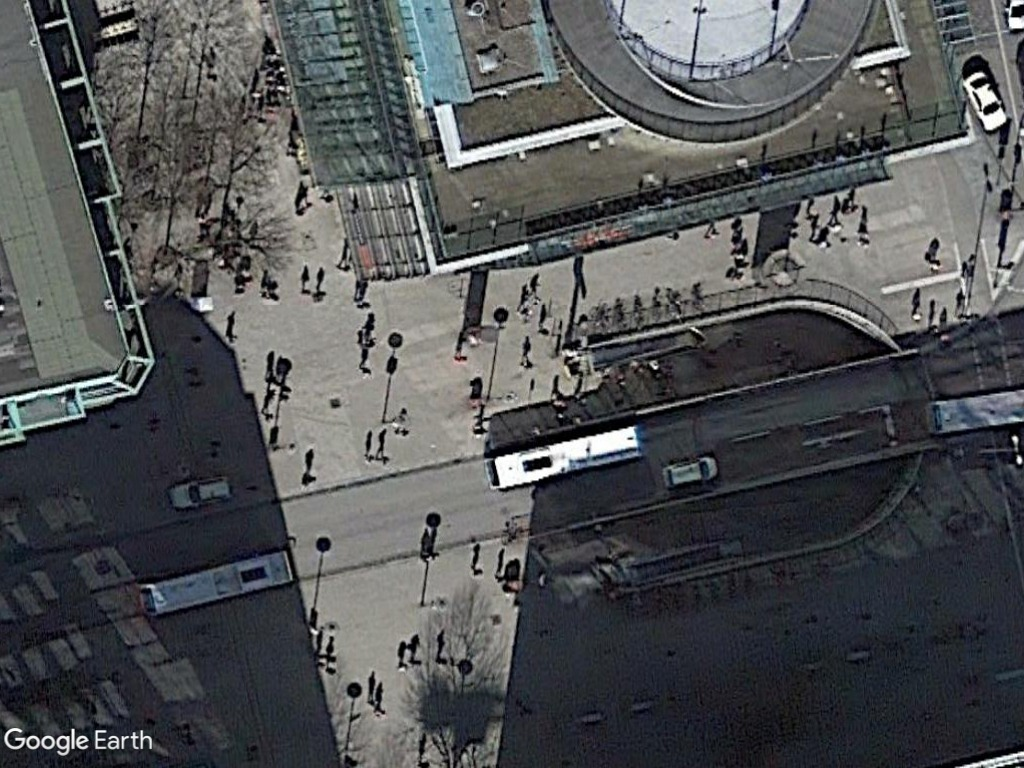bus: (480, 423, 644, 496), (136, 547, 294, 621)
car: (959, 67, 1009, 136), (164, 473, 235, 515), (658, 453, 721, 493)
